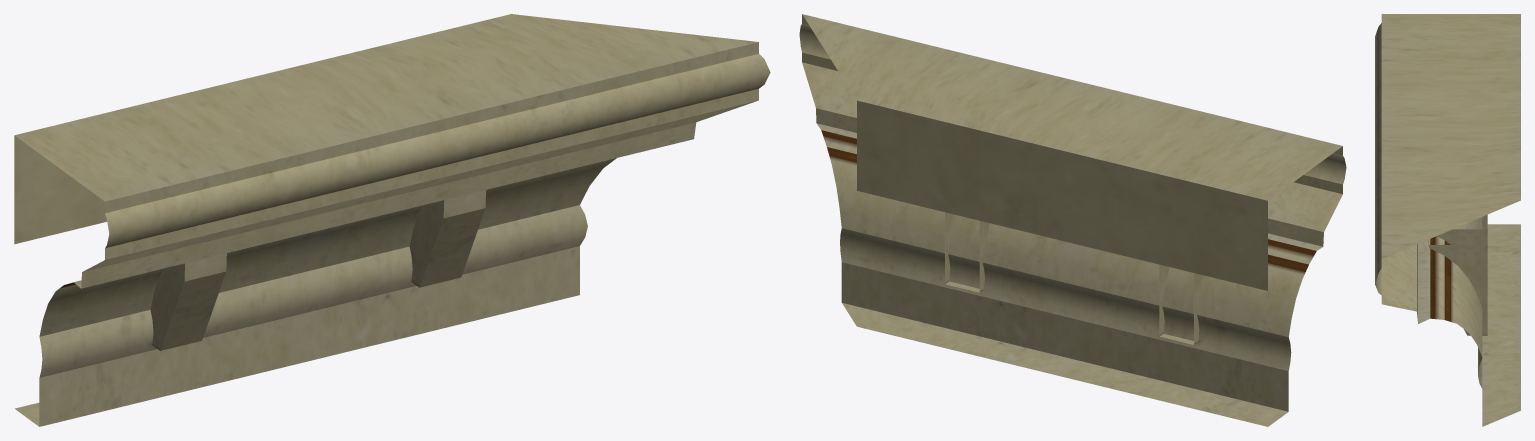
Rendered from cornice_trim_r.glb.
3 views of the same model, side by side, from view 1: azimuth 30°, elevation 25°; view 2: azimuth 150°, elevation 25°; view 3: azimuth 270°, elevation 25° (orthographic). The views are drawn at different scales.
Parts seen in each view (by area): view 1: Cornice_Trim_R; view 2: Cornice_Trim_R; view 3: Cornice_Trim_R.
Boxes of the visible parts, bbox=[...] form: Cornice_Trim_R: bbox=[14, 14, 770, 426]; Cornice_Trim_R: bbox=[799, 14, 1346, 426]; Cornice_Trim_R: bbox=[1375, 14, 1520, 426].
Size of the model in its own units: 2.53 by 0.9984 by 0.6278.
Materials: 1 (1 with a texture image).
